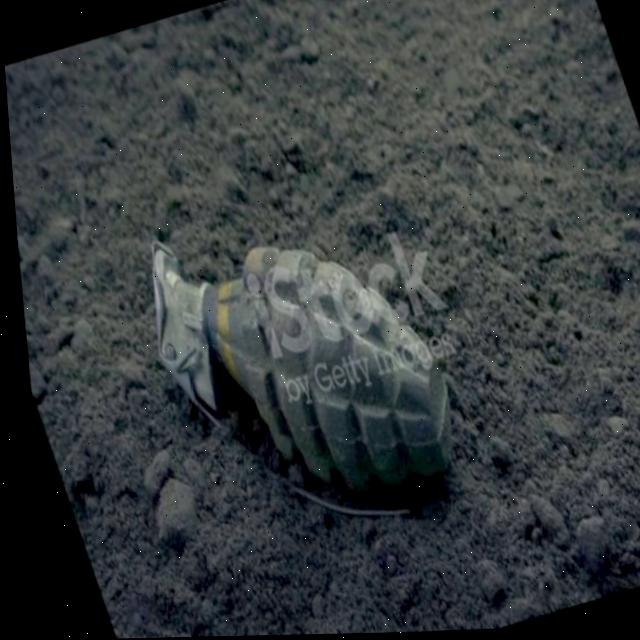grenade: (115, 178, 470, 548)
